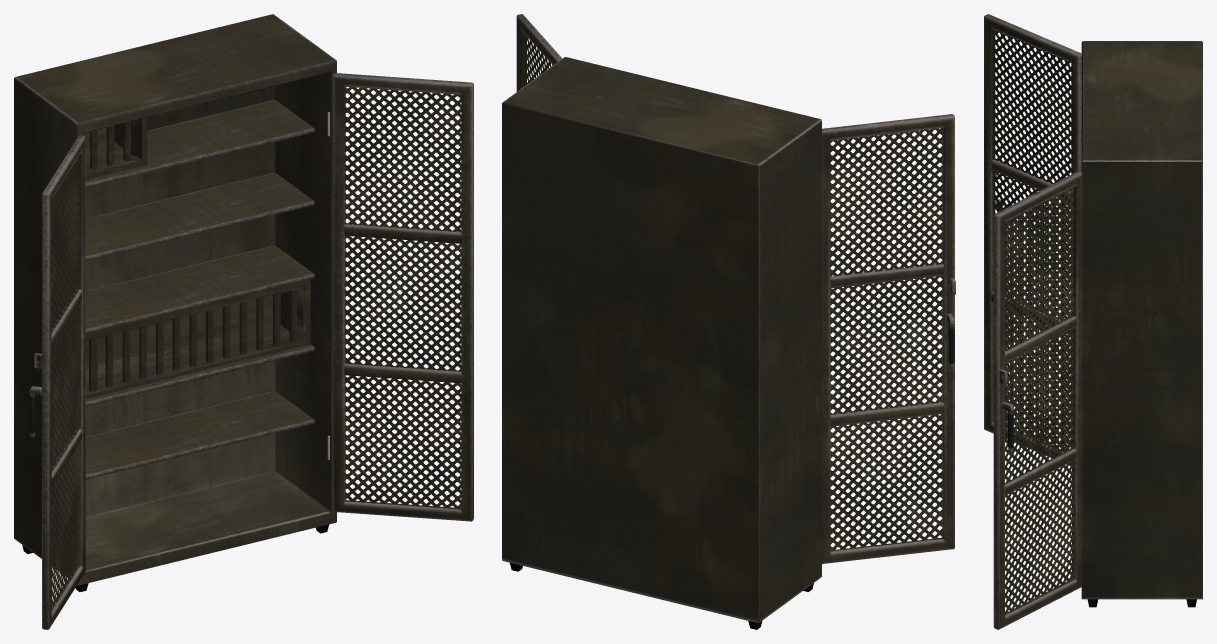
The model's file is Locker_Equipment.fbx.
3 renders of one model, left to right at view 1: azimuth 30°, elevation 25°; view 2: azimuth 150°, elevation 25°; view 3: azimuth 270°, elevation 25°, orthographic. The views are drawn at different scales.
Visible parts, largest first — view 1: locker_Equip_01, locker_Equip_01_R_Door, locker_Equip_01.001, locker_Equip_01_L_Door, Cube.001, Cube.003, Cube, Cube.002; view 2: locker_Equip_01, locker_Equip_01_L_Door, locker_Equip_01_R_Door; view 3: locker_Equip_01, locker_Equip_01_R_Door, locker_Equip_01_L_Door.
Part boxes in pixels (x1,y1,x2,y2): locker_Equip_01: (14, 14, 336, 591); locker_Equip_01_R_Door: (332, 73, 473, 521); locker_Equip_01.001: (85, 100, 314, 479); locker_Equip_01_L_Door: (29, 135, 85, 629); Cube.001: (85, 284, 305, 396); Cube.003: (85, 279, 310, 398); Cube: (83, 117, 147, 180); Cube.002: (85, 121, 141, 175); locker_Equip_01: (502, 57, 821, 629); locker_Equip_01_L_Door: (822, 114, 955, 563); locker_Equip_01_R_Door: (516, 14, 562, 91); locker_Equip_01: (1081, 41, 1202, 607); locker_Equip_01_R_Door: (993, 171, 1082, 629); locker_Equip_01_L_Door: (984, 14, 1081, 465).
Size of the model in its own units: 203 by 205 by 90.33.
